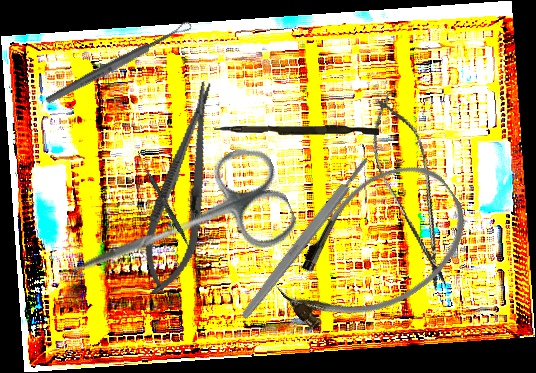Cannula: (256, 143, 488, 357)
Iris Scissors: (54, 139, 303, 322)
Micro Scissor: (357, 88, 467, 297)
Needle Holder: (132, 75, 235, 302)
Pusher: (213, 123, 380, 138)
Scalpel Handle: (238, 155, 373, 321)
Spatula Surgical: (133, 151, 197, 255)
Surgical Spoon: (43, 19, 194, 107)
